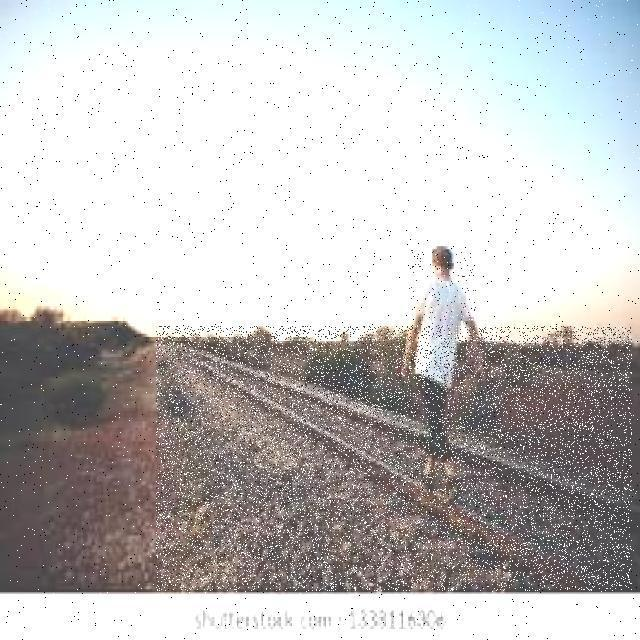danger: (409, 250, 476, 485)
rail: (156, 326, 632, 591)
